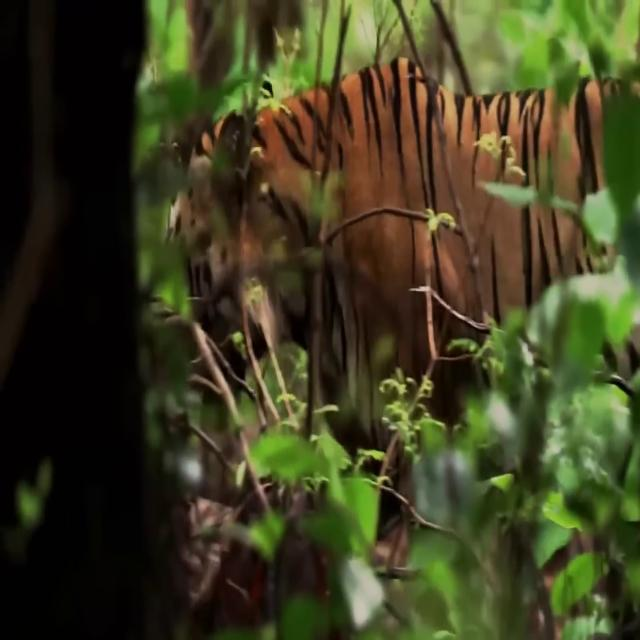tiger: (168, 54, 640, 483)
